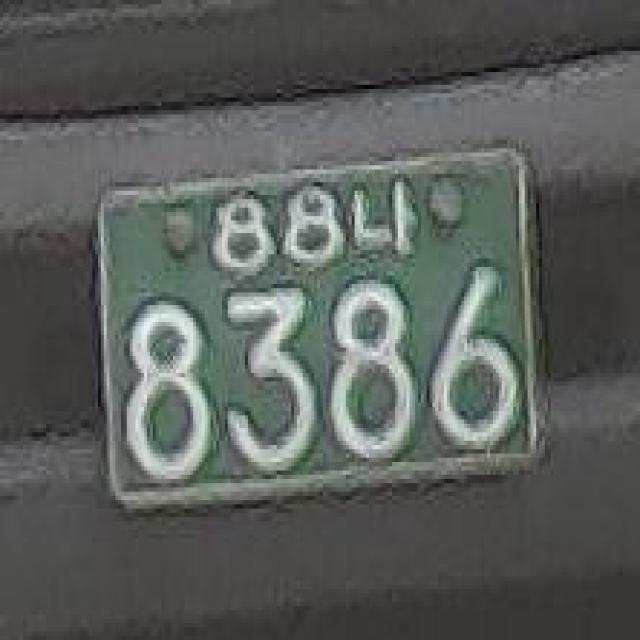illegal_plate: (82, 141, 554, 530)
